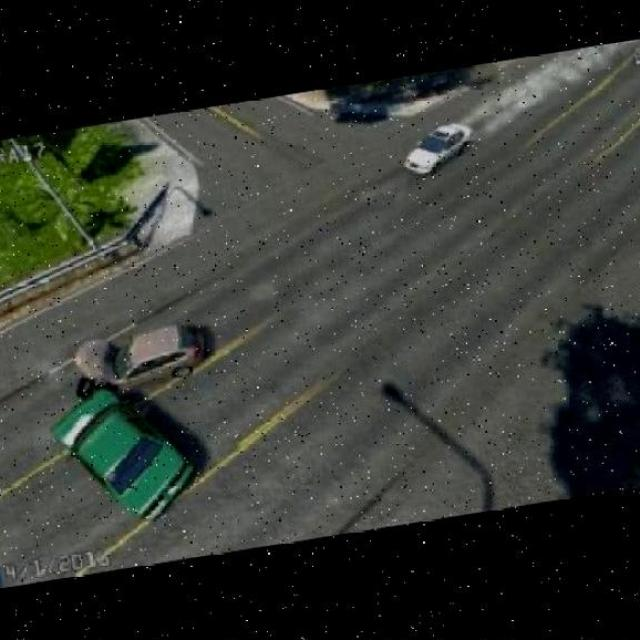accident: (45, 335, 147, 463)
